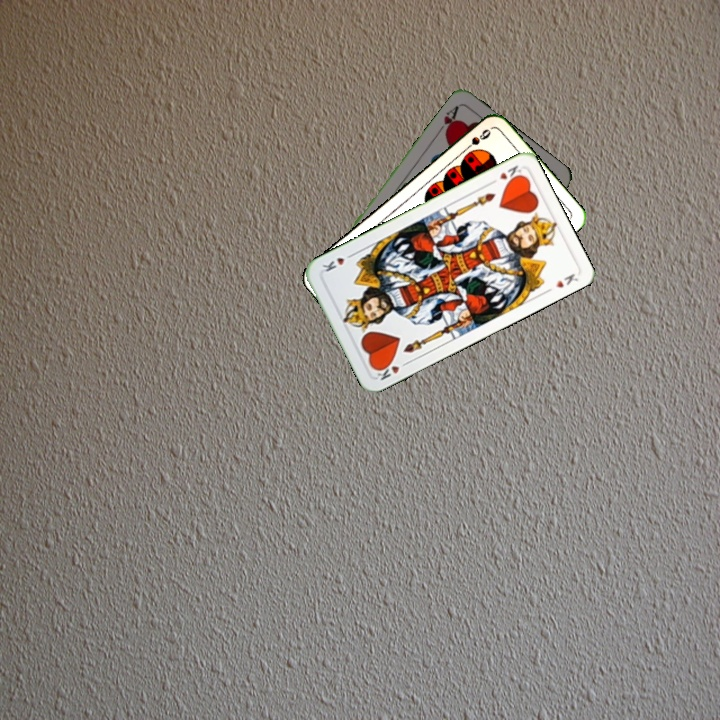HA: (433, 101, 462, 138)
HK: (371, 357, 412, 383), (485, 161, 525, 187)
S9: (459, 125, 493, 155)
